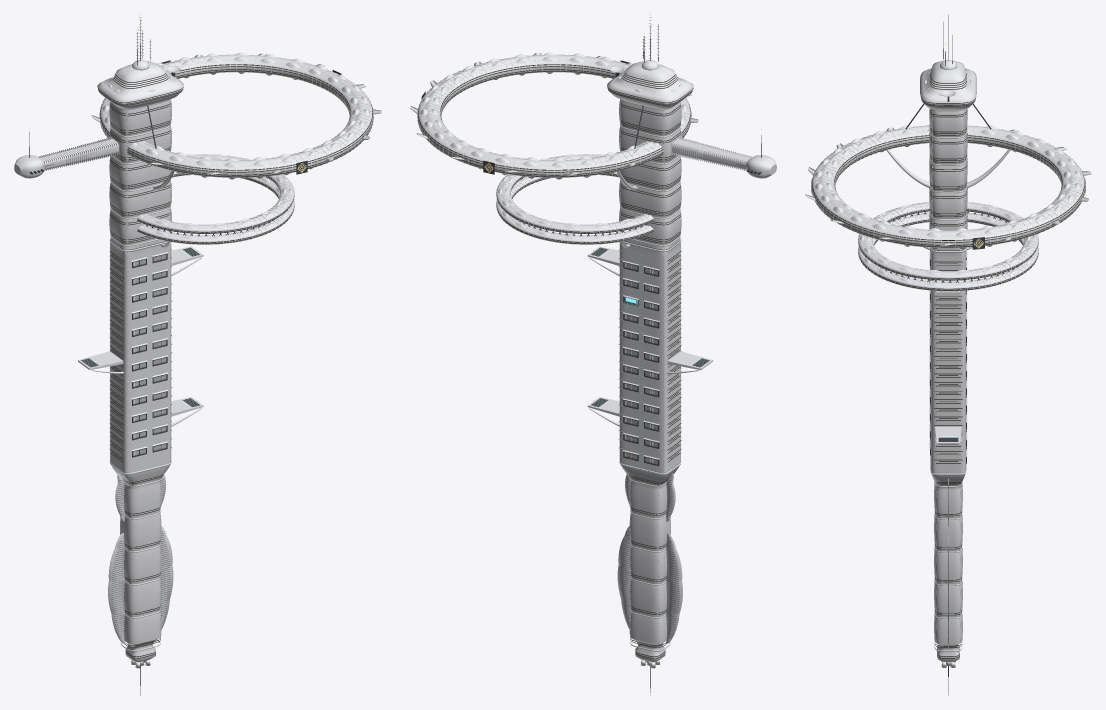
The model's file is Station.glb.
3 views of the same model, side by side, from view 1: azimuth 30°, elevation 25°; view 2: azimuth 150°, elevation 25°; view 3: azimuth 270°, elevation 25° (orthographic).
Visible parts, largest first — view 1: Etages hangars - Coque, Anneau haut - Coque, Tour basse - Coque, Tour haute - Coque, Anneau bas - Coque, Tete - Coque, Etages hangars - Sombre, Anneau haut - Hublots, Bras - Coque, Tour haute - Hublots, Etages hangars - Hublots, Tour basse - Sombre (+3 smaller); view 2: Etages hangars - Coque, Anneau haut - Coque, Tour basse - Coque, Tour haute - Coque, Anneau bas - Coque, Tete - Coque, Etages hangars - Sombre, Anneau haut - Hublots, Bras - Coque, Tour haute - Hublots, Etages hangars - Hublots, Tour basse - Sombre (+3 smaller); view 3: Anneau haut - Coque, Etages hangars - Coque, Anneau bas - Coque, Tour basse - Coque, Tour haute - Coque, Tete - Coque, Anneau haut - Hublots, Etages hangars - Hublots, Anneau bas - Hublots, Tour haute - Hublots, Queue - Coque.
Part boxes in pixels (<box>): Etages hangars - Coque: <box>78,239,203,474</box>; Anneau haut - Coque: <box>91,52,381,190</box>; Tour basse - Coque: <box>108,461,173,651</box>; Tour haute - Coque: <box>109,99,171,256</box>; Anneau bas - Coque: <box>137,154,294,247</box>; Tete - Coque: <box>97,60,183,109</box>; Etages hangars - Sombre: <box>81,247,199,457</box>; Anneau haut - Hublots: <box>99,64,373,176</box>; Bras - Coque: <box>14,137,119,178</box>; Tour haute - Hublots: <box>109,102,171,251</box>; Etages hangars - Hublots: <box>109,249,171,461</box>; Tour basse - Sombre: <box>111,478,170,637</box>; Etages hangars - Coque: <box>587,239,713,474</box>; Anneau haut - Coque: <box>410,52,698,190</box>; Tour basse - Coque: <box>617,461,682,651</box>; Tour haute - Coque: <box>619,99,681,256</box>; Anneau bas - Coque: <box>496,154,653,247</box>; Tete - Coque: <box>607,60,693,109</box>; Etages hangars - Sombre: <box>591,247,709,466</box>; Anneau haut - Hublots: <box>417,64,691,176</box>; Bras - Coque: <box>671,137,776,178</box>; Tour haute - Hublots: <box>619,102,681,251</box>; Etages hangars - Hublots: <box>619,249,681,462</box>; Tour basse - Sombre: <box>620,478,679,637</box>; Anneau haut - Coque: <box>805,124,1091,249</box>; Etages hangars - Coque: <box>929,247,967,475</box>; Anneau bas - Coque: <box>858,202,1038,291</box>; Tour basse - Coque: <box>930,469,966,651</box>; Tour haute - Coque: <box>929,108,967,257</box>; Tete - Coque: <box>920,59,976,110</box>; Anneau haut - Hublots: <box>811,135,1085,247</box>; Etages hangars - Hublots: <box>934,261,962,463</box>; Anneau bas - Hublots: <box>858,209,1038,290</box>; Tour haute - Hublots: <box>929,110,967,252</box>; Queue - Coque: <box>937,643,959,667</box>.
Bounding box in the file's own units: 2516 × 4753 × 1810.
Materials: 8 (2 with a texture image).
